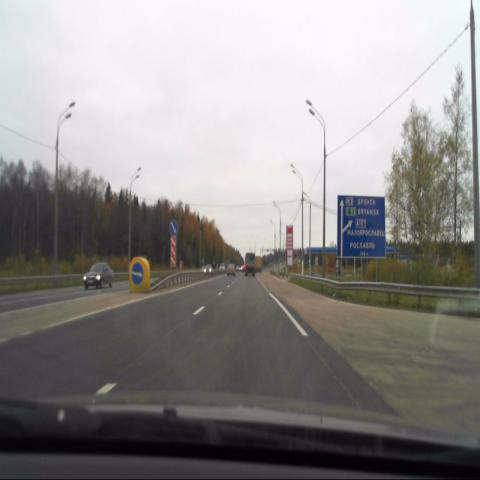4_1_2_1: (131, 259, 143, 286)
